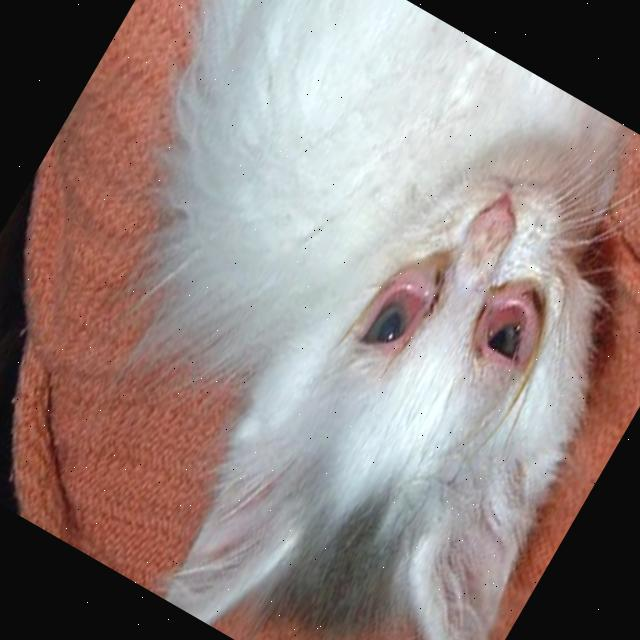cat-eye: (442, 264, 564, 406), (340, 245, 453, 382)
